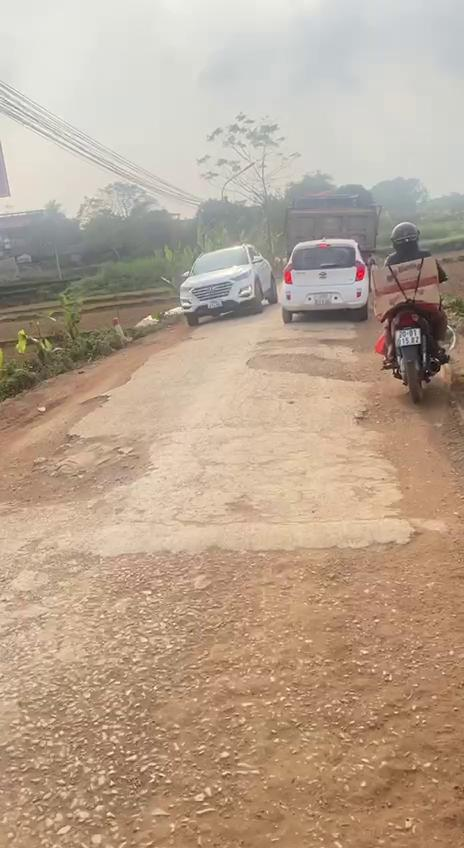pothole: (0, 389, 163, 507), (246, 335, 374, 386), (353, 403, 399, 432)
